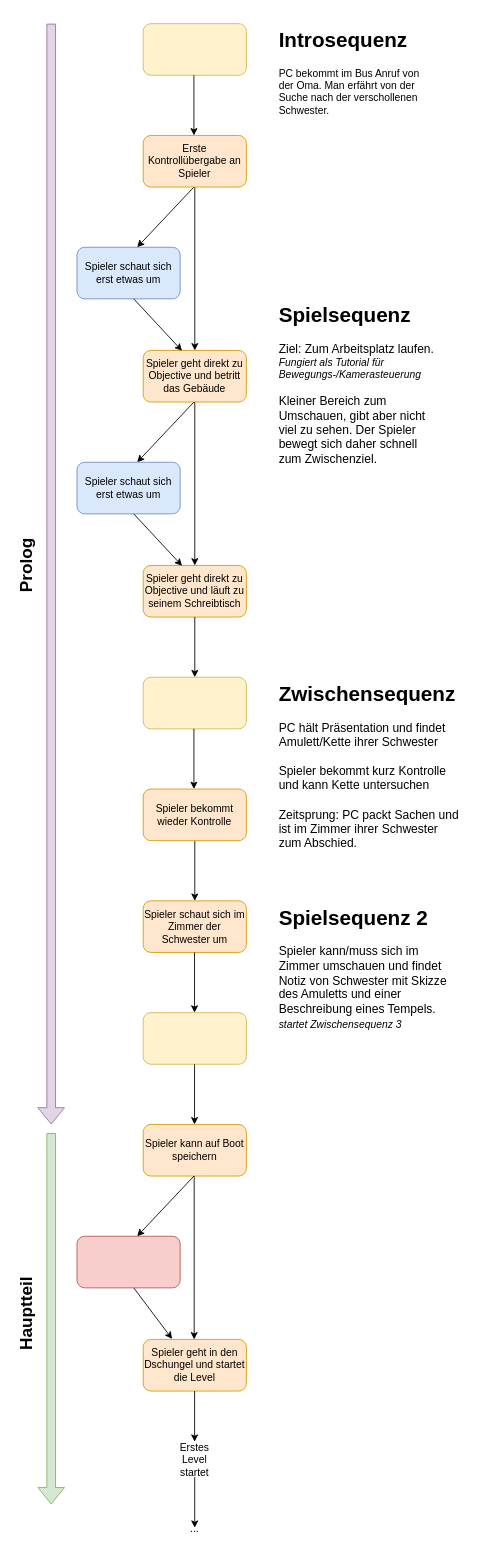
This 478x1551 diagram has some shape labels left out. Here are the shapes that lost their labels. From the top down, the box of each, then its label:
(142, 23, 246, 75): Introsequenz/ Spieleinführung
(142, 676, 246, 729): Zwischensequenz 2
(142, 1012, 246, 1064): Zwischensequenz 3 (automatisch wenn Notiz gefunden wird)
(76, 1235, 180, 1288): Spieler schaut sich erst etwas um & unterhält sich mit Crew
